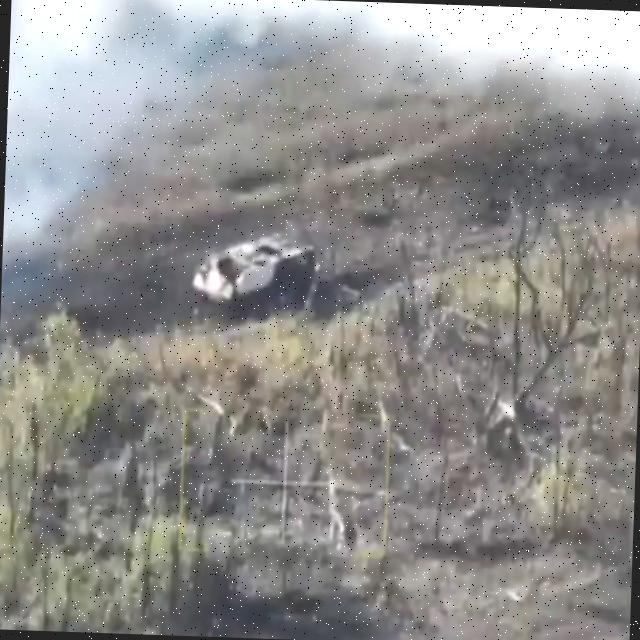APC: (193, 232, 320, 313)
